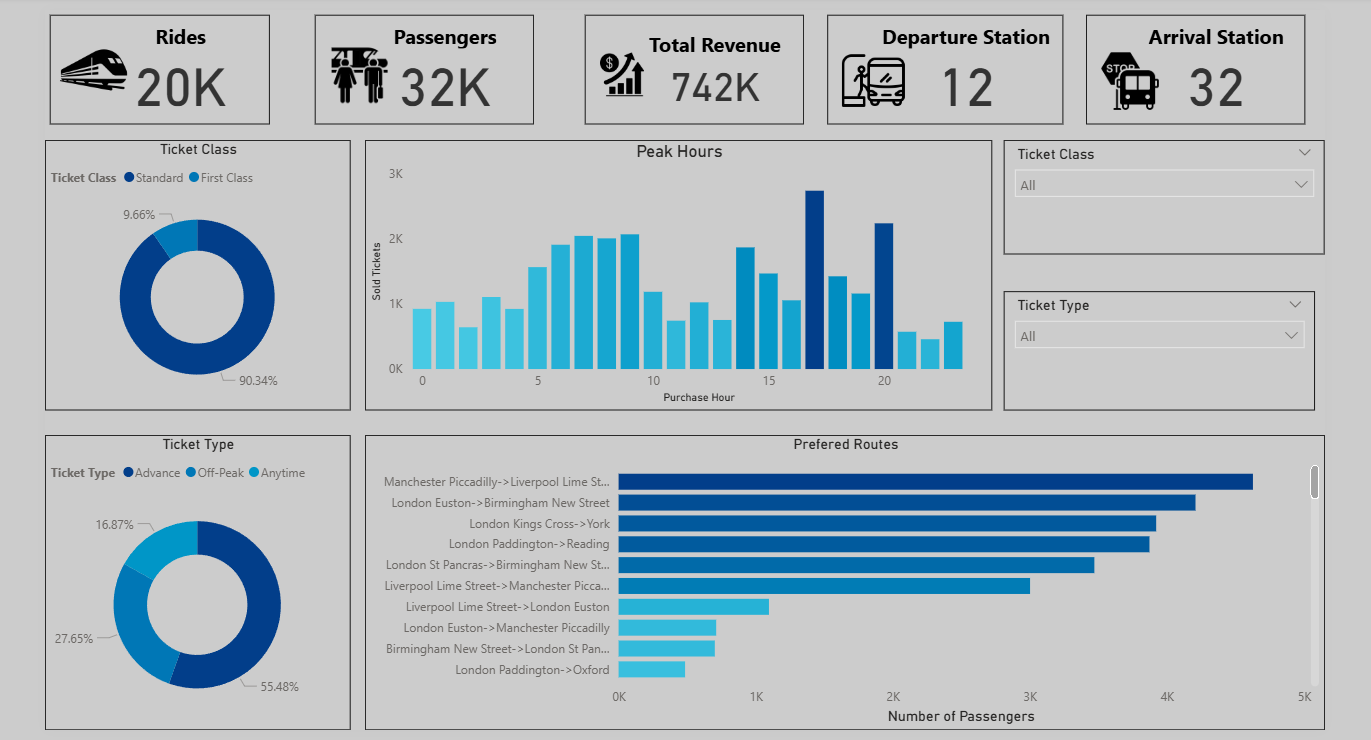

The page's visual inventory and layout, read from the dashboard file:
{"tool":"powerbi","page":{"name":"Overview","canvas":[1280,720],"ordinal":1},"visuals":[{"type":"cardVisual","fields":{"Data":["CountNonNull(Last.Transaction ID)"]},"box":[264.8,0,229.4,119.6],"z":0},{"type":"cardVisual","fields":{"Data":["Count(Last.Journey ID)"]},"box":[0,0,230,119],"z":1000},{"type":"columnChart","title":"Peak Hours","fields":{"Category":["Last.Purchase Hour"],"Y":["CountNonNull(Last.Transaction ID)"]},"box":[319.7,130.3,627.3,270.2],"z":2000},{"type":"donutChart","title":"Ticket Class","fields":{"Category":["Last.Ticket Class"],"Y":["CountNonNull(Last.Ticket Class)"]},"box":[0,130.3,305.2,270.2],"z":3000},{"type":"donutChart","title":"Ticket Type","fields":{"Y":["CountNonNull(Last.Ticket Type)"],"Category":["Last.Ticket Type"]},"box":[0,424.7,305.2,295.6],"z":4000},{"type":"barChart","title":"Prefered Routes","fields":{"Category":["Last.From To"],"Y":["CountNonNull(Last.Transaction ID)"]},"box":[319.7,424.7,960.3,295.6],"z":5000},{"type":"cardVisual","fields":{"Data":["Sum(Last.Price)"]},"box":[534.6,0,229.4,119.6],"z":6000},{"type":"cardVisual","fields":{"Data":["Count(Last.Departure Station)"]},"box":[777.4,0,246.5,119.6],"z":7000},{"type":"slicer","fields":{"Values":["Last.Ticket Class"]},"box":[959.1,130.3,320.9,114.6],"z":8000},{"type":"slicer","fields":{"Values":["Last.Ticket Type"]},"box":[959.1,281.1,311.3,119.4],"z":9000},{"type":"image","box":[264.8,33,98.9,65.9],"z":10000},{"type":"image","box":[534.6,37.8,84.2,53.7],"z":11000},{"type":"image","box":[777.4,23.2,101.3,94],"z":13000},{"type":"cardVisual","fields":{"Data":["Count(Last.Arrival Destination)"]},"box":[1036.2,0,229,119.6],"z":14000},{"type":"image","box":[0,2.4,97.6,114.7],"z":15000},{"type":"image","box":[1036.2,37.8,97.6,67.1],"z":15001}]}

Visuals, with their boxes on the page's 1280x720 design canvas (x1, y1, x2, y2). These are canvas units, not pixel positions in the 1371x740 screenshot, which may show the page scaled, cropped or inside an application window:
cardVisual - CountNonNull(Last.Transaction ID): (265,0,494,120)
cardVisual - Count(Last.Journey ID): (0,0,230,119)
"Peak Hours" columnChart: (320,130,947,400)
"Ticket Class" donutChart: (0,130,305,400)
"Ticket Type" donutChart: (0,425,305,720)
"Prefered Routes" barChart: (320,425,1280,720)
cardVisual - Sum(Last.Price): (535,0,764,120)
cardVisual - Count(Last.Departure Station): (777,0,1024,120)
slicer - Last.Ticket Class: (959,130,1280,245)
slicer - Last.Ticket Type: (959,281,1270,400)
image: (265,33,364,99)
image: (535,38,619,92)
image: (777,23,879,117)
cardVisual - Count(Last.Arrival Destination): (1036,0,1265,120)
image: (0,2,98,117)
image: (1036,38,1134,105)
